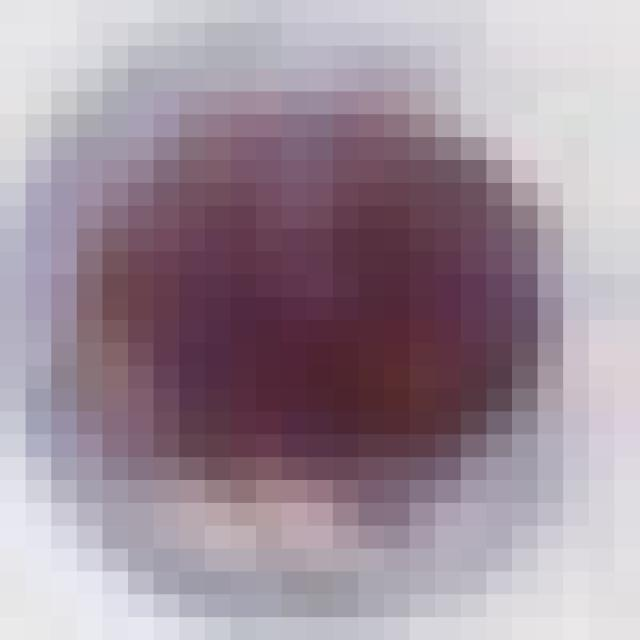nucleus: (38, 73, 568, 537)
